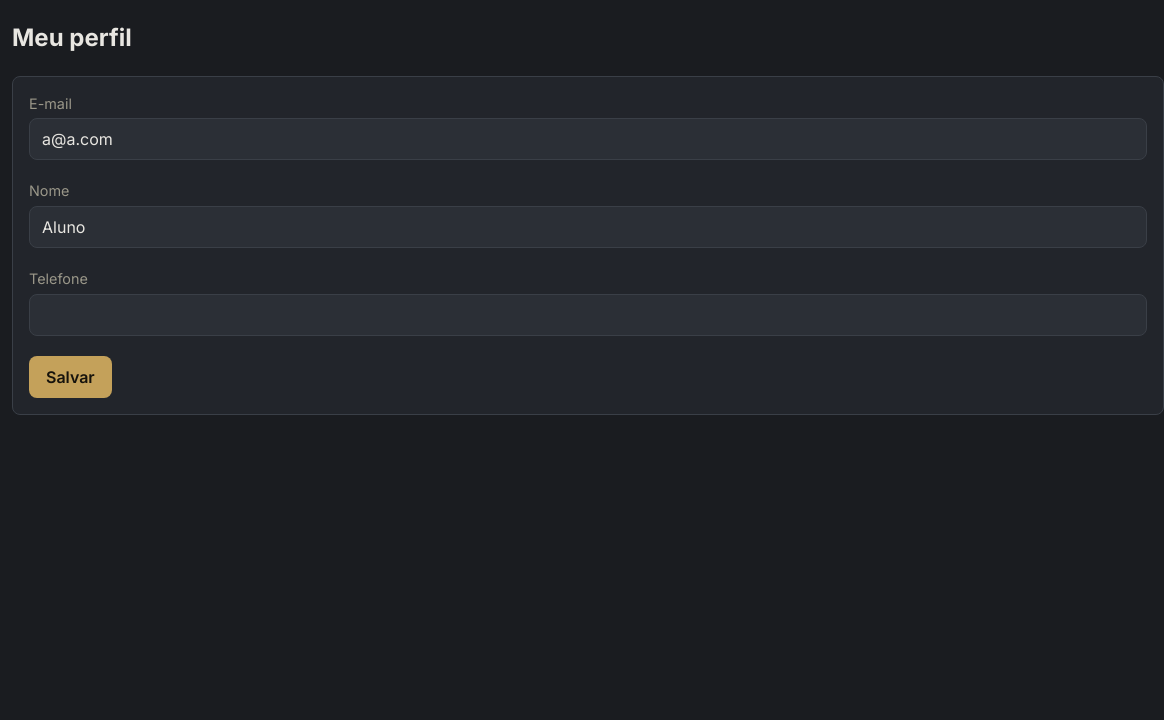
ProfilePage › carrega o perfil e salva alteracoes
The width and height of the screenshot is (1164, 720).
Step 1. Replace the text in the field labelled "Nome" with "Novo Nome" → (588, 227), box x1=29 y1=206 x2=1147 y2=248
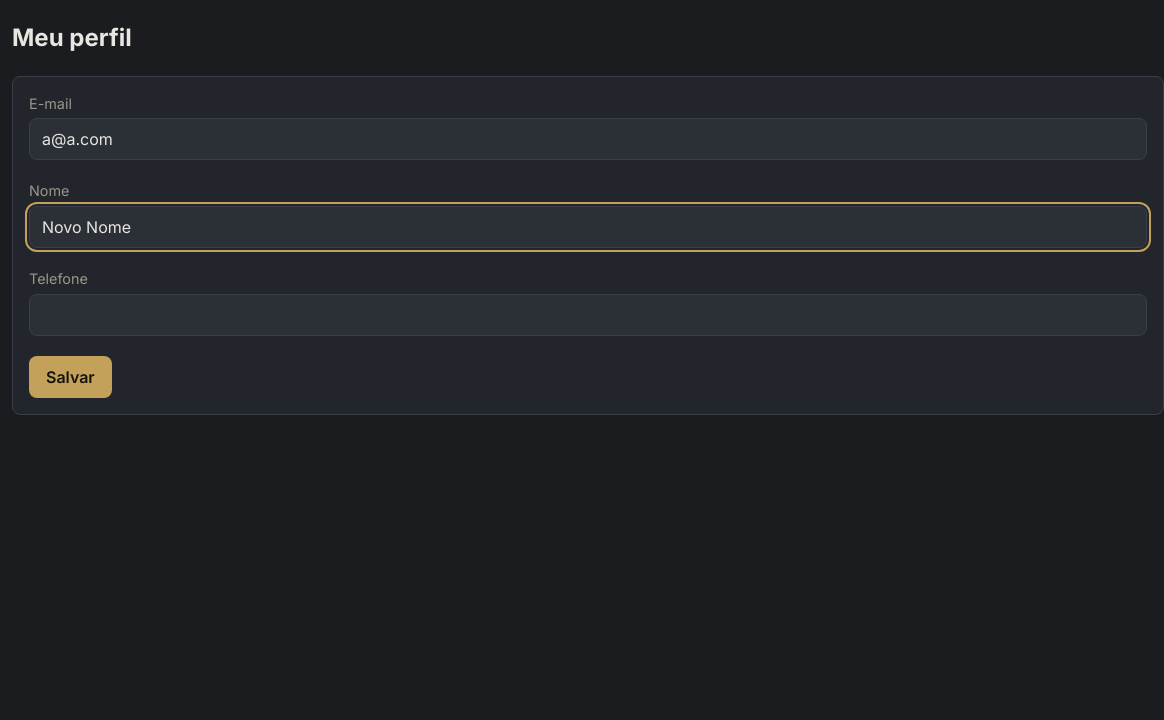
Step 2. Type "119999" into the field labelled "Telefone" → (588, 315), box x1=29 y1=294 x2=1147 y2=336
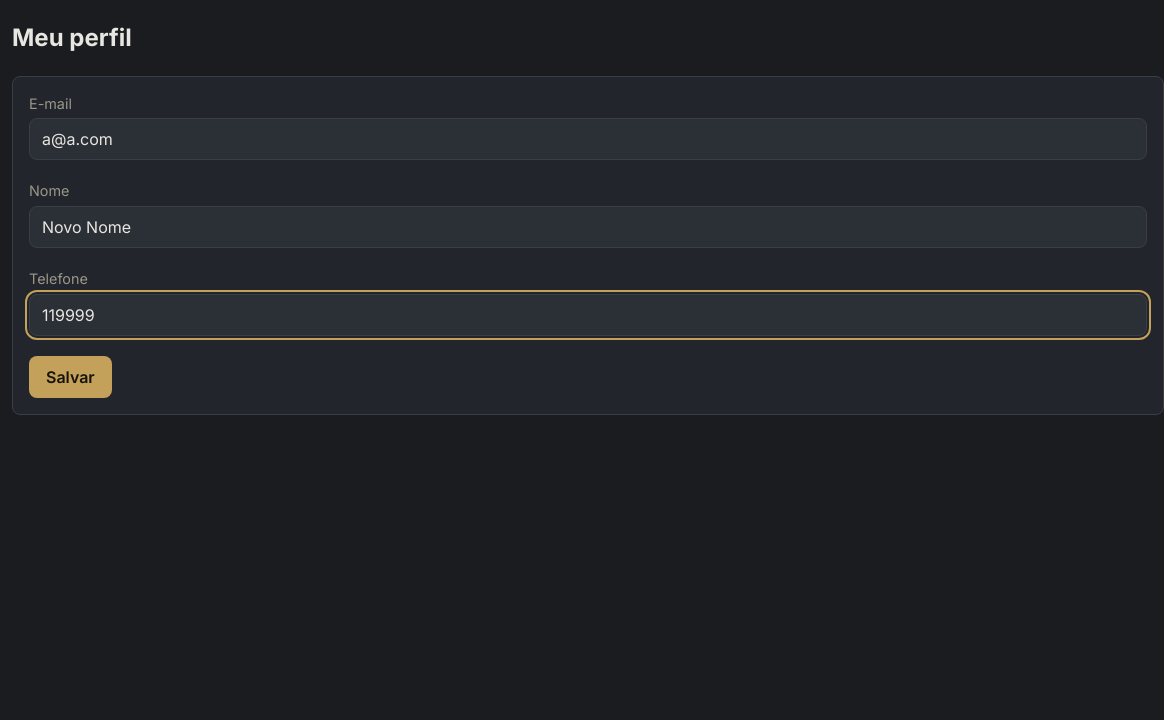
Step 3. Click the button "Salvar" → (70, 377), box x1=29 y1=356 x2=112 y2=398
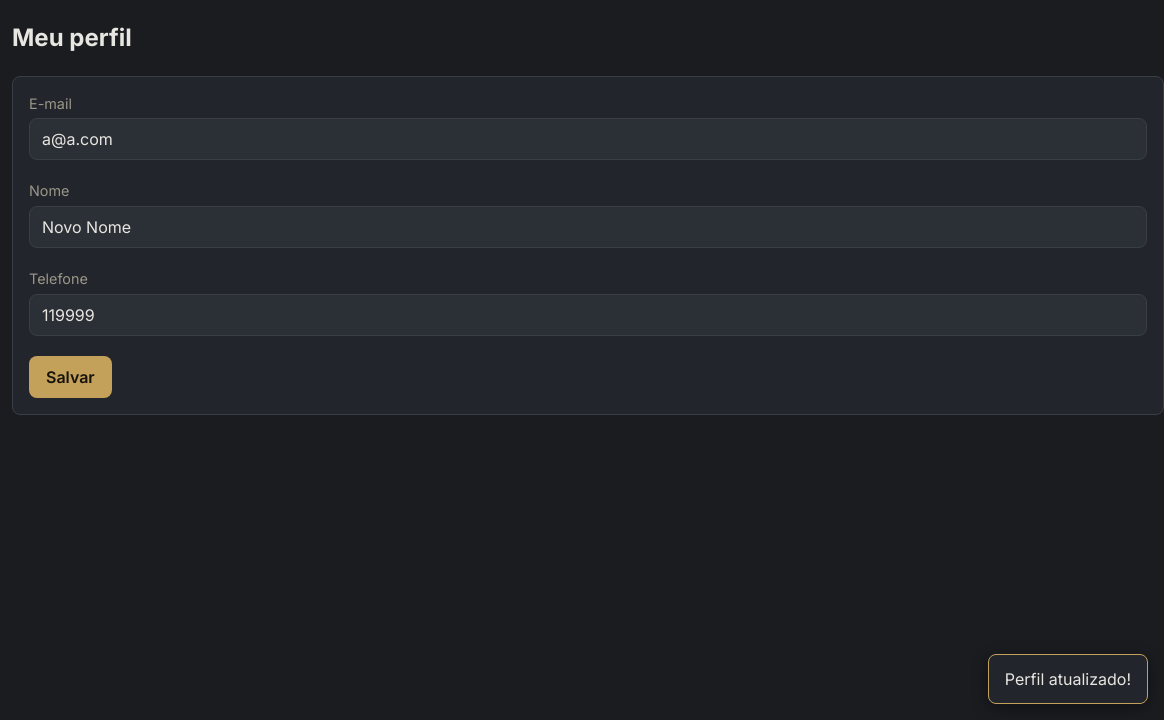
Expected: the text "Perfil atualizado!" is shown, x1=988 y1=654 x2=1148 y2=704
